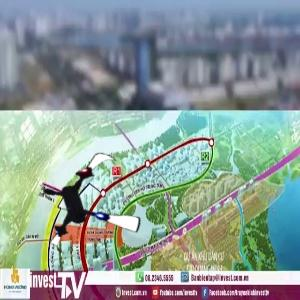drone: (35, 150, 148, 263)
